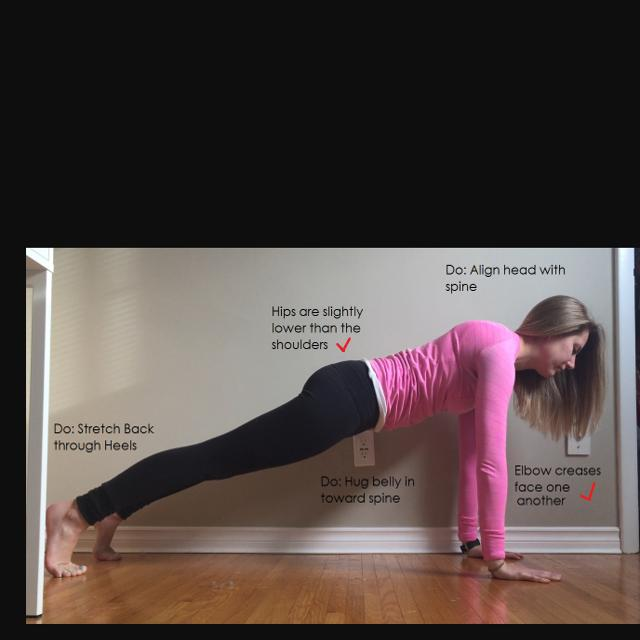Plank_Pose: (40, 291, 608, 588)
